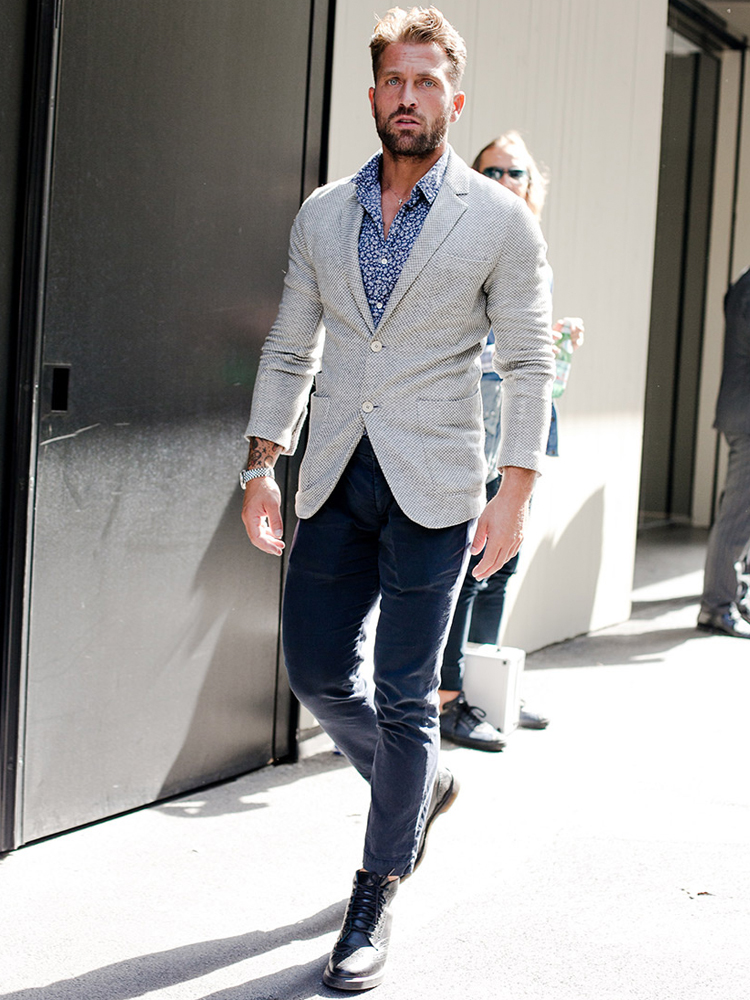NOTSAFE: (316, 8, 506, 534)
